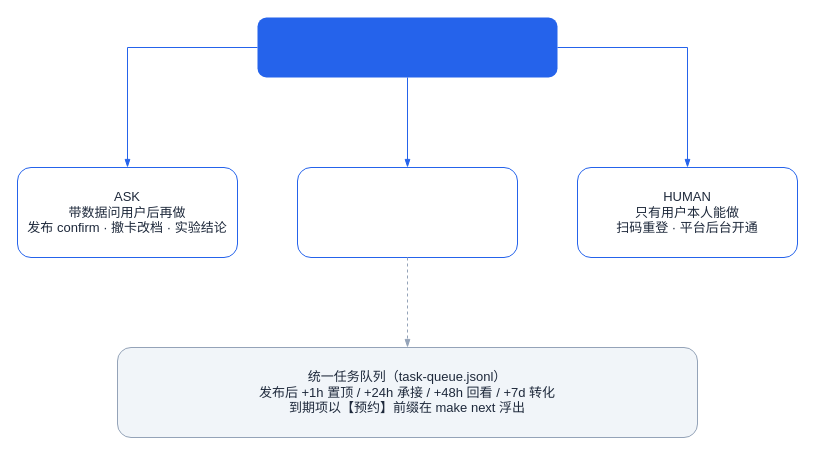
Some shapes in this 815 by 455 pixel diagram are drawn without their labels. The centre of each missing label's shape, as x and y in pixels:
AUTO agent 直接执行（只读采集/本地分析） 仍是人工触发，不挂定时: point (407, 212)
会话开屏：make next （纯本地计算，零平台请求）: point (407, 47)
